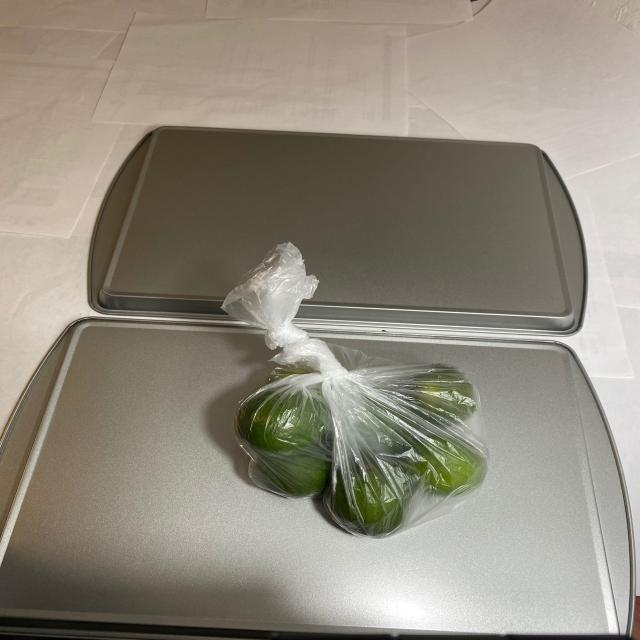lemon: (227, 357, 487, 536)
